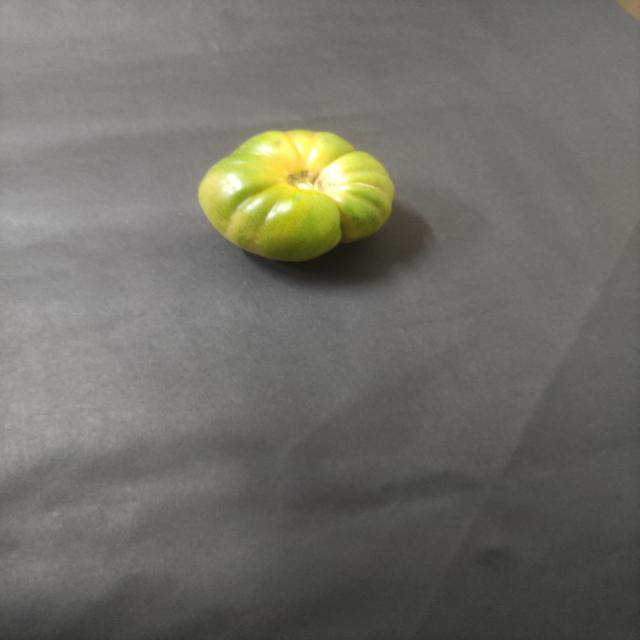yesil: (192, 120, 400, 272)
